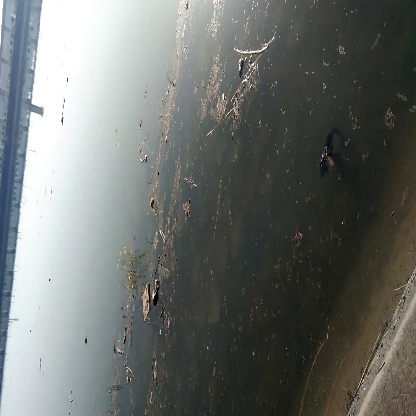plastic-garbage: (135, 278, 161, 317)
